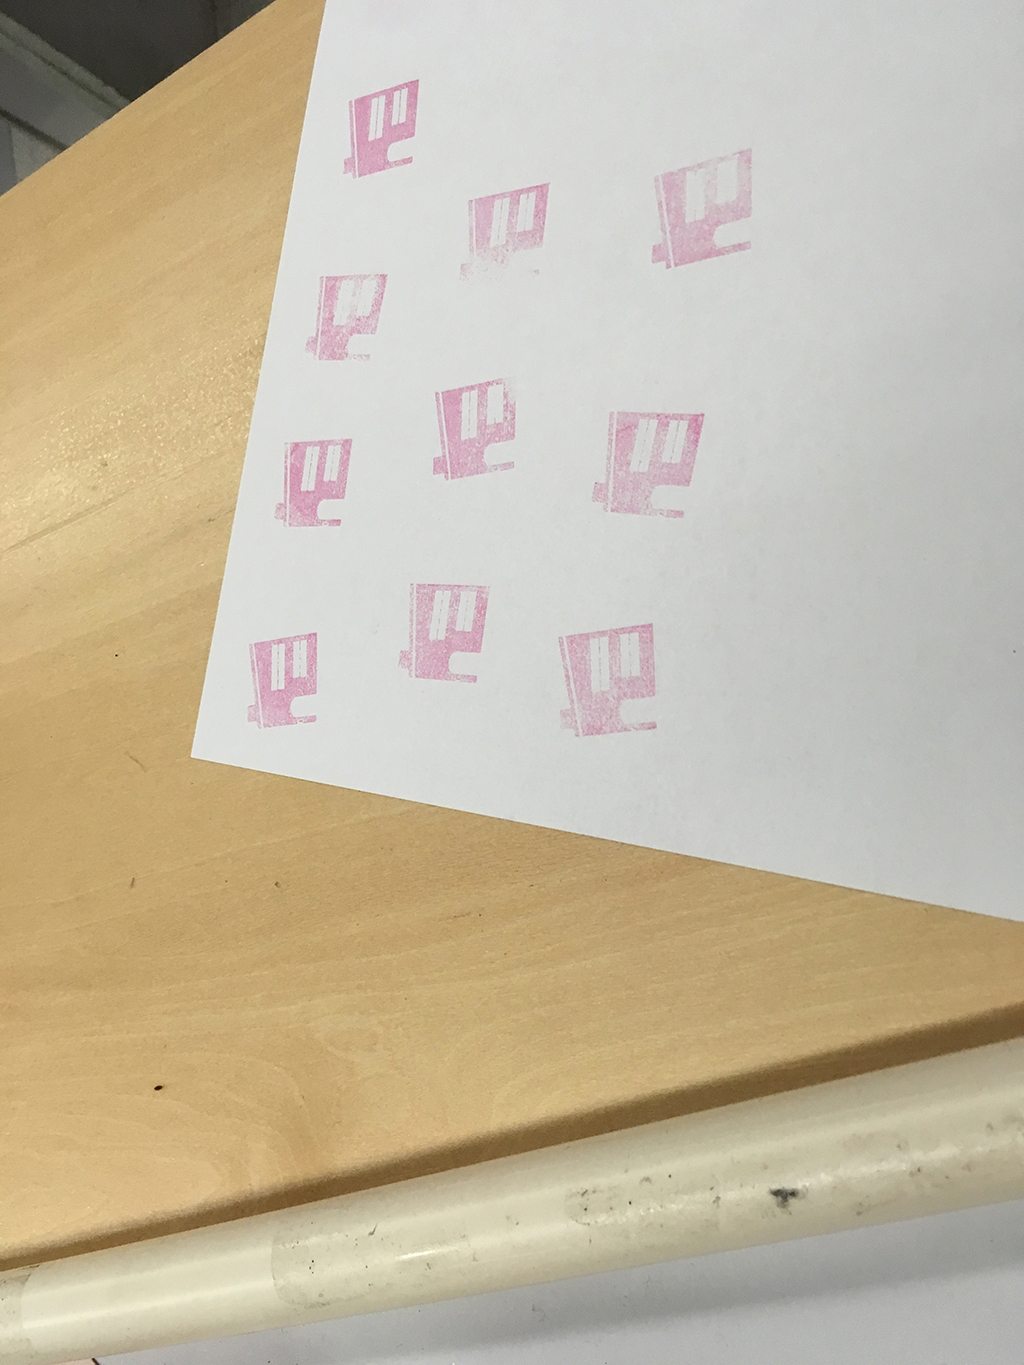house: (543, 613, 685, 754), (636, 136, 774, 278), (578, 396, 714, 527), (419, 358, 534, 496), (389, 570, 500, 700), (451, 173, 560, 294), (233, 621, 333, 742), (291, 261, 395, 373), (335, 71, 432, 185), (268, 427, 362, 538)
